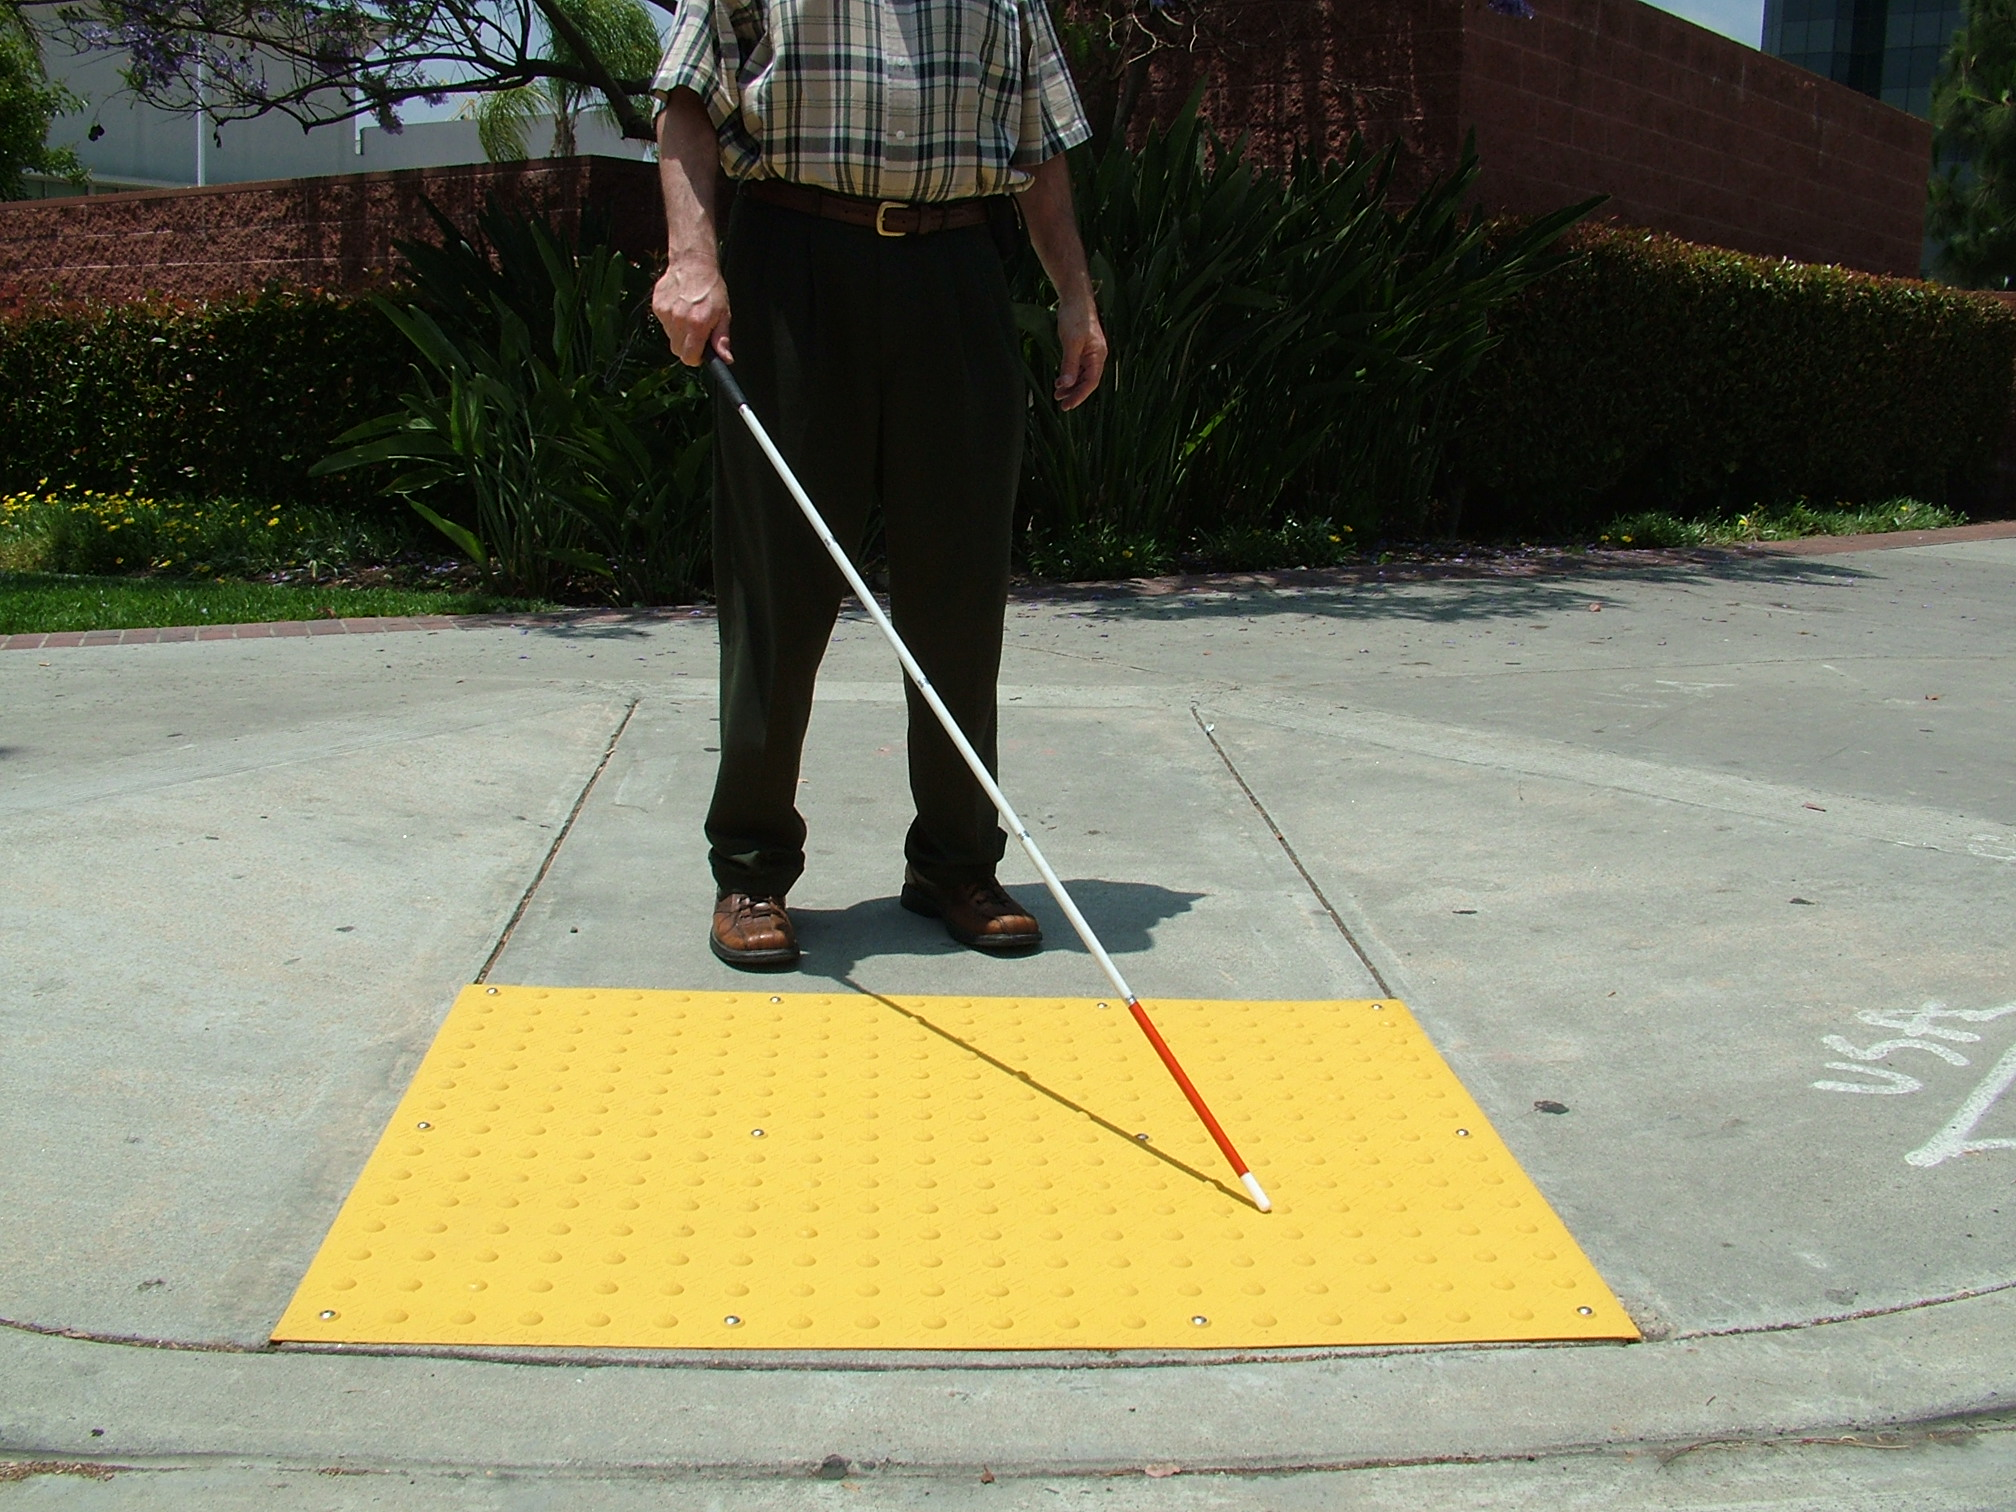ramp: (97, 810, 1764, 1487)
